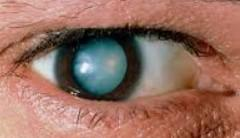eye: (52, 36, 142, 101)
